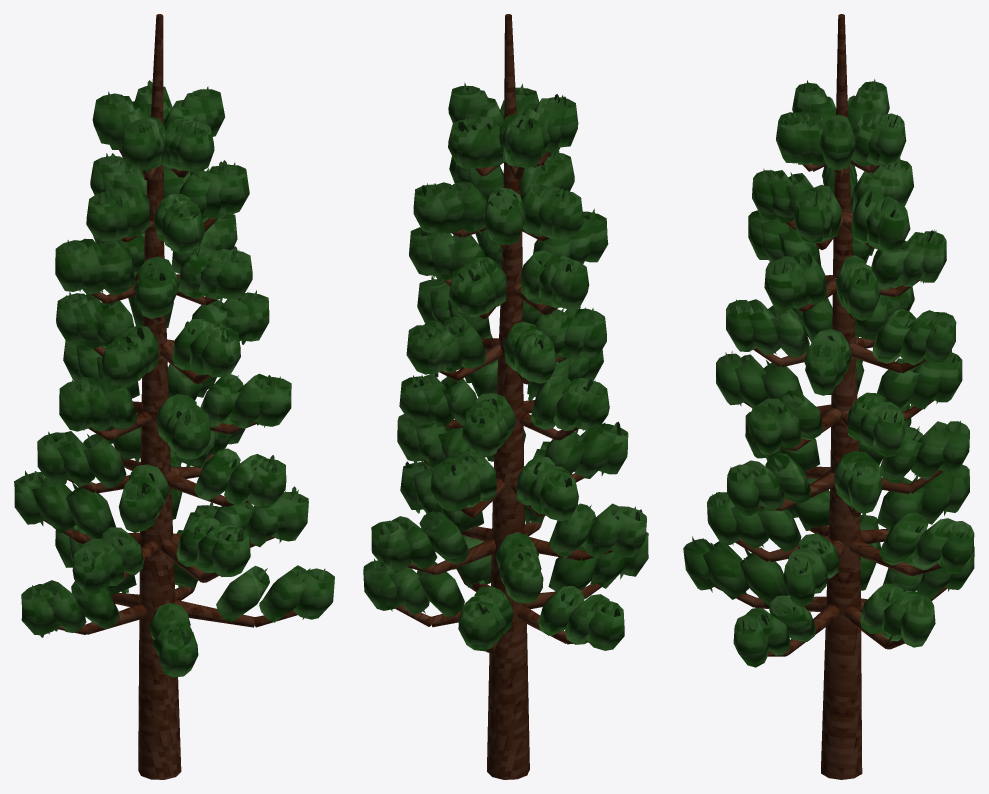
Rendered from pine02-lod0.glb.
3 views of the same model, side by side, from view 1: azimuth 30°, elevation 25°; view 2: azimuth 150°, elevation 25°; view 3: azimuth 270°, elevation 25° (orthographic).
Visible parts, largest first — view 1: TZ_pine_Batch_01_LOD0, TZ_pine_Batch_00_LOD0, TZ_pine_Batch_02_LOD0; view 2: TZ_pine_Batch_01_LOD0, TZ_pine_Batch_00_LOD0, TZ_pine_Batch_02_LOD0; view 3: TZ_pine_Batch_01_LOD0, TZ_pine_Batch_00_LOD0, TZ_pine_Batch_02_LOD0.
Boxes of the visible parts, x1,y1,x2,y2 form: TZ_pine_Batch_01_LOD0: (14,81,334,677); TZ_pine_Batch_00_LOD0: (44,14,297,779); TZ_pine_Batch_02_LOD0: (30,80,318,645); TZ_pine_Batch_01_LOD0: (363,82,648,651); TZ_pine_Batch_00_LOD0: (395,14,620,779); TZ_pine_Batch_02_LOD0: (380,88,642,616); TZ_pine_Batch_01_LOD0: (683,79,974,667); TZ_pine_Batch_00_LOD0: (714,14,947,779); TZ_pine_Batch_02_LOD0: (695,83,963,641).
Bounding box in the file's own units: 3.55 × 9.6 × 3.36.
3 materials, 3 textured.
